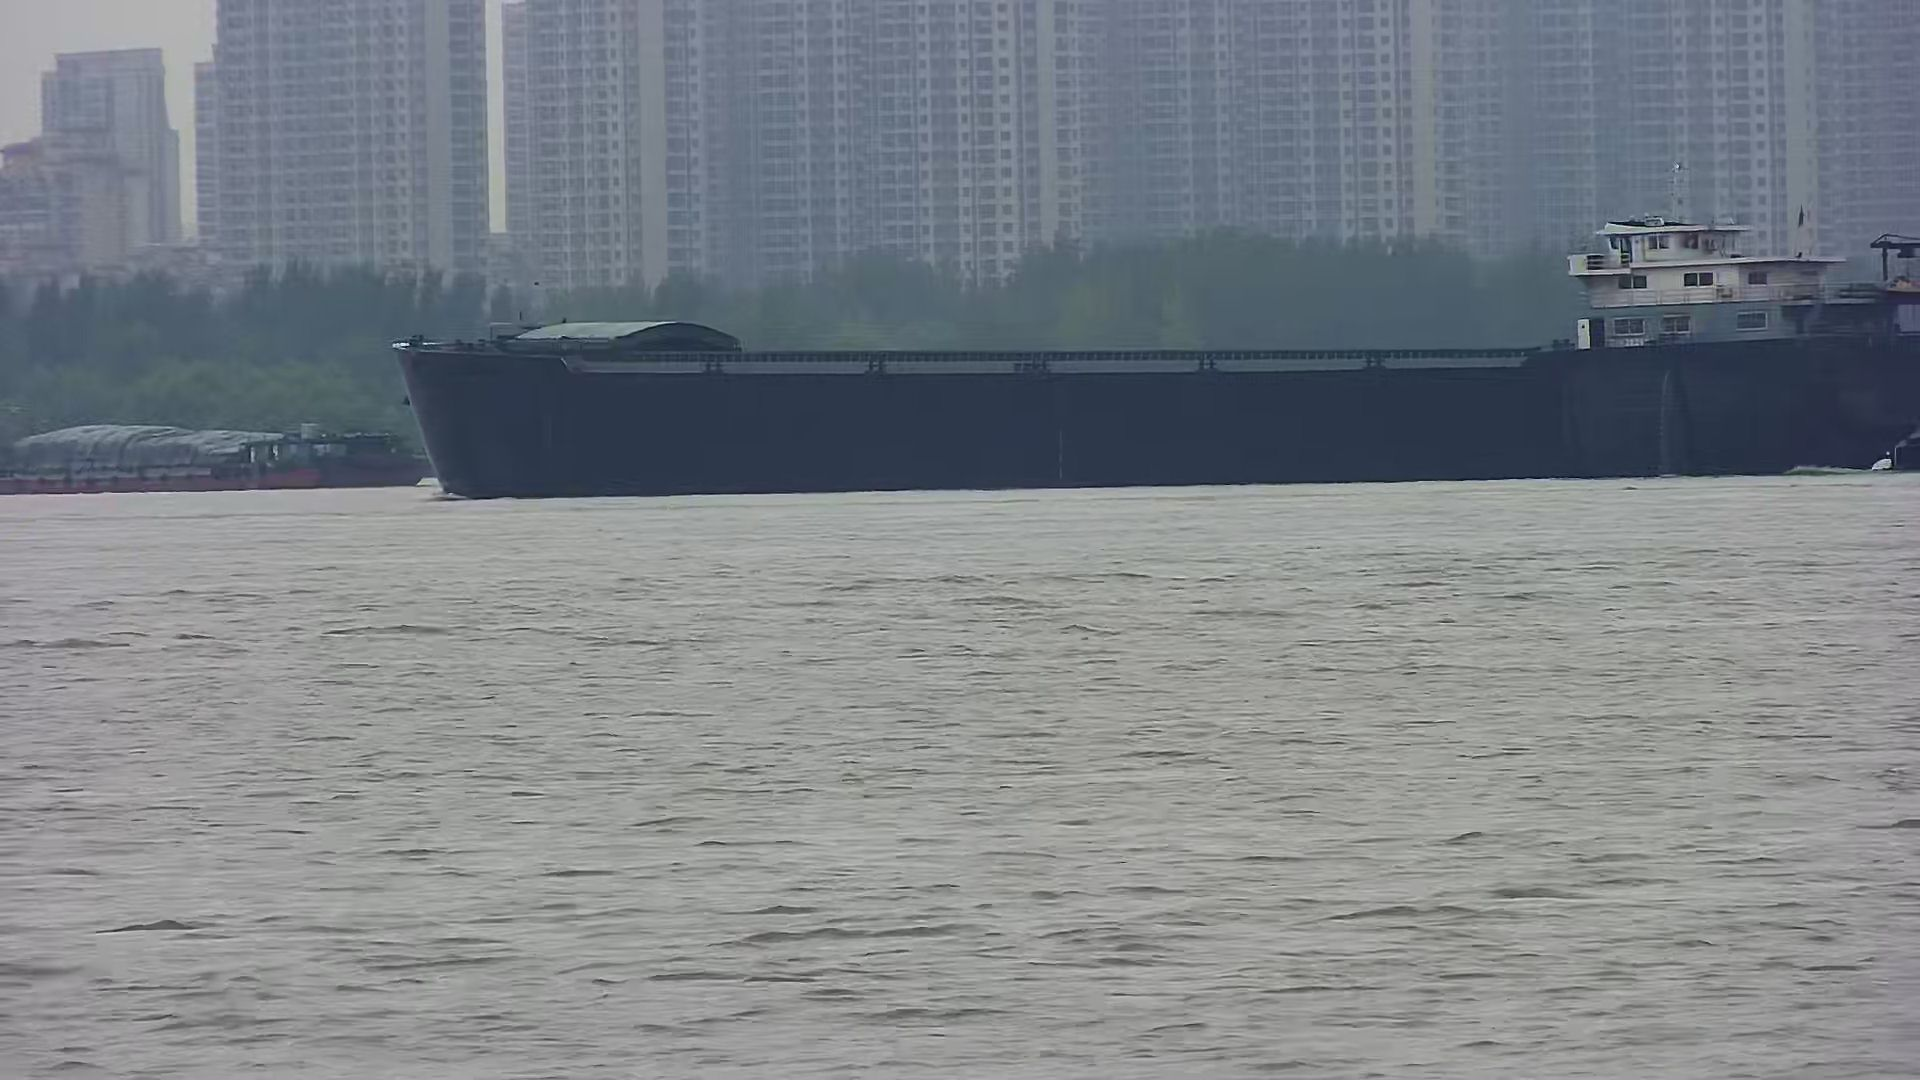ship: (392, 167, 1920, 502), (1, 417, 436, 496)
